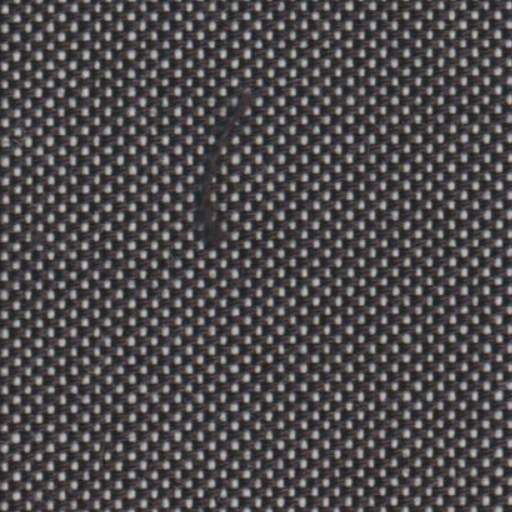DuanSha: (184, 74, 266, 258)
